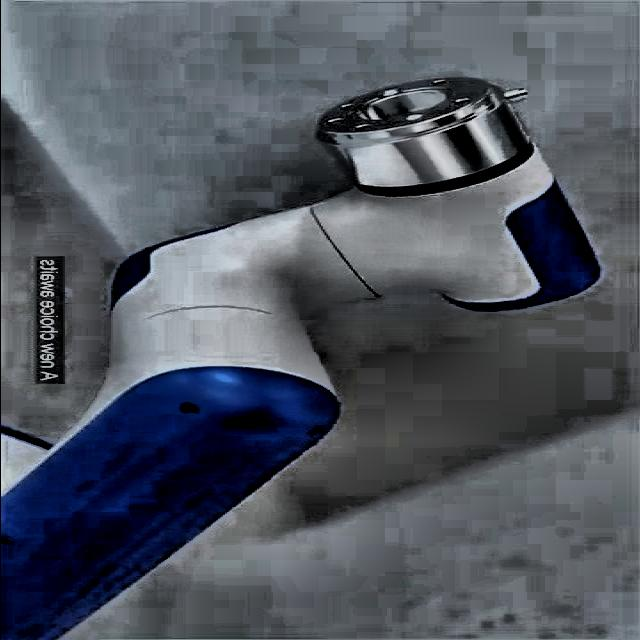robot: (3, 77, 604, 639)
